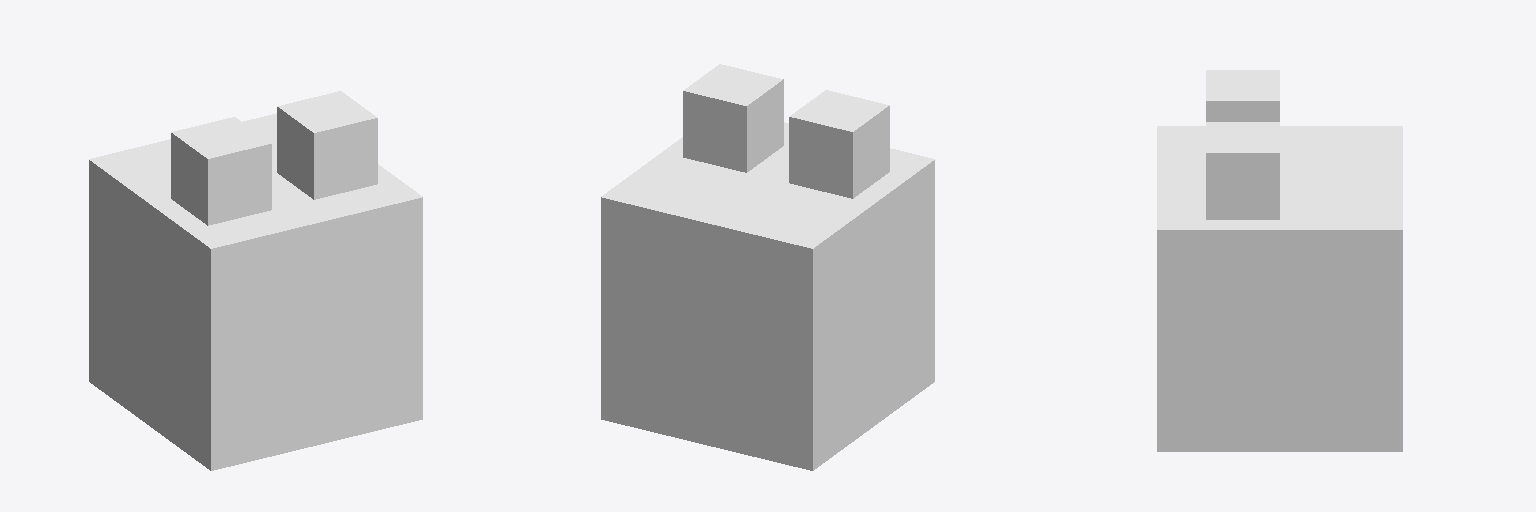
File: NormalMob.obj
3 views of the same model, side by side, from view 1: azimuth 30°, elevation 25°; view 2: azimuth 150°, elevation 25°; view 3: azimuth 270°, elevation 25° (orthographic).
Visible parts, largest first — view 1: object 1; view 2: object 1; view 3: object 1.
Part boxes in pixels (x1,y1,x2,y2): object 1: (89,91,422,470); object 1: (601,64,934,470); object 1: (1157,70,1402,451).
Bounding box in the file's own units: 1 × 1.3 × 1.